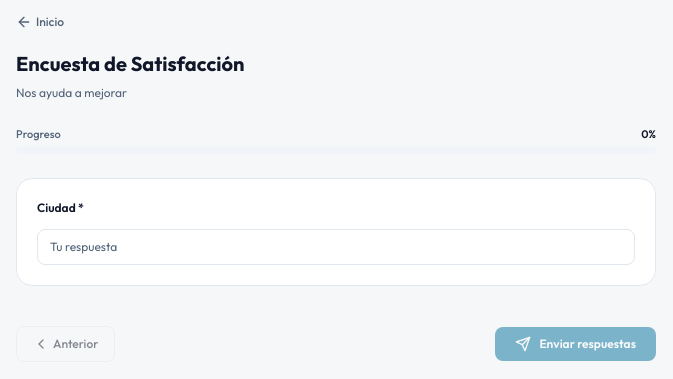
Test: SurveyPublicRenderer — flujo y envío › bloquea avance con obligatoria vacía y envía al completar
Expected: the heading "Encuesta de Satisfacción" is shown, x1=16 y1=50 x2=244 y2=76
Expected: the button "Enviar respuestas" is disabled, x1=495 y1=327 x2=656 y2=361
In the field named "Ciudad": {"x": 336, "y": 247} x1=37 y1=229 x2=635 y2=265, type "Bogotá"
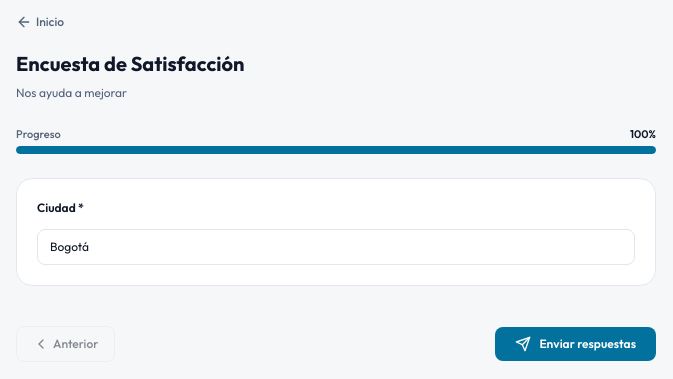
Expected: the button "Enviar respuestas" is enabled
Click the button "Enviar respuestas": {"x": 576, "y": 344} x1=495 y1=327 x2=656 y2=361
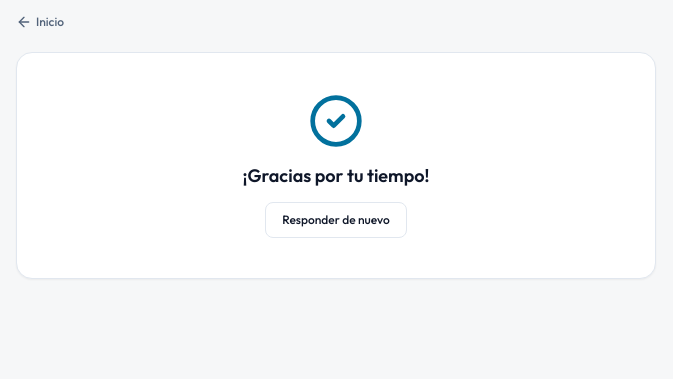
Expected: the heading "¡Gracias por tu tiempo!" is shown, x1=242 y1=164 x2=430 y2=186
